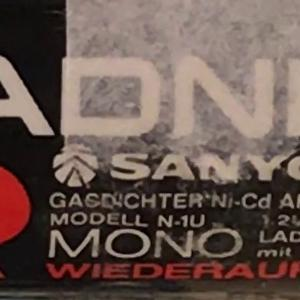NI-CD: (204, 185, 280, 210)
